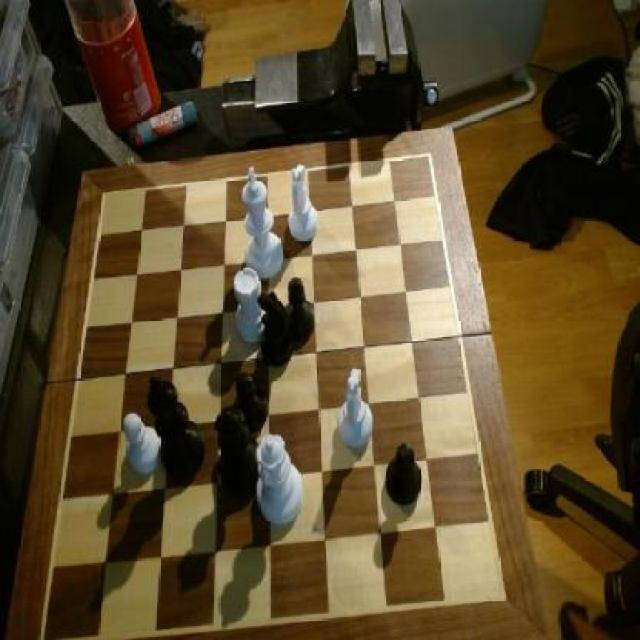black-bishop: (144, 372, 208, 482)
black-king: (254, 288, 294, 367)
black-knight: (384, 442, 424, 516), (229, 372, 269, 436), (285, 275, 317, 343)
black-pawn: (214, 404, 261, 496)
white-bishop: (238, 166, 286, 282)
white-king: (337, 366, 377, 452), (285, 163, 320, 245)
white-knight: (120, 414, 164, 481)
white-pawn: (255, 432, 308, 528)
white-queen: (231, 266, 268, 345)
